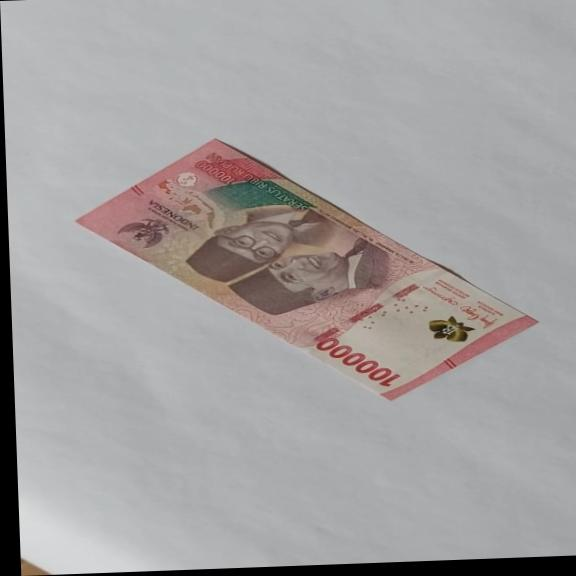Kertas: (70, 125, 541, 412), (314, 333, 402, 390)
